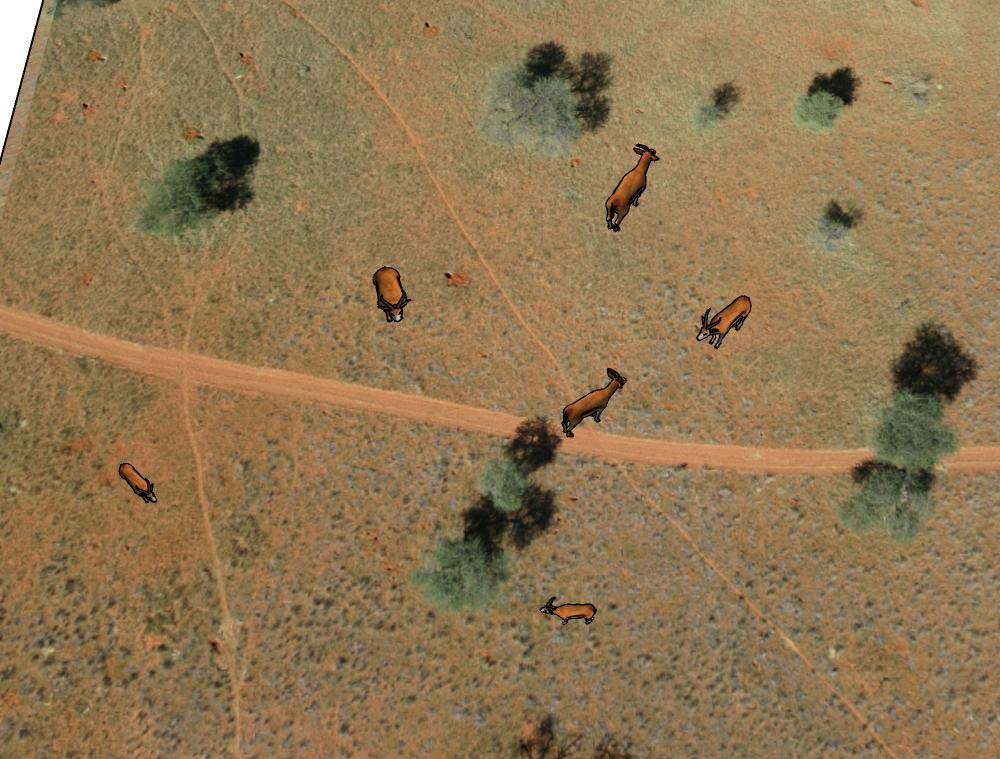springbok: (598, 143, 660, 236), (555, 368, 630, 442), (694, 290, 756, 361), (366, 266, 417, 330), (117, 453, 160, 513), (535, 597, 596, 629)
